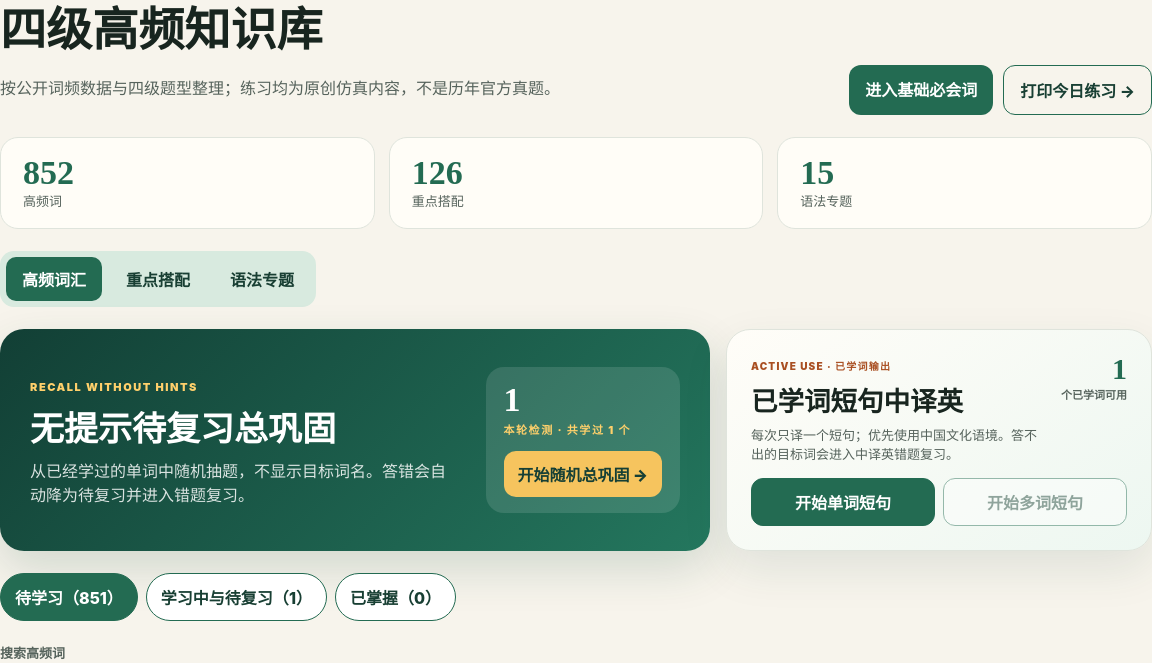
Test: KnowledgePage › finishes a one-word aggregate round with a visible summary instead of repeating it
Click the button with aria-label "开始待复习词总巩固". click: (583, 474)
box: top-left (504, 451), bottom-right (662, 497)
(page scrolled)
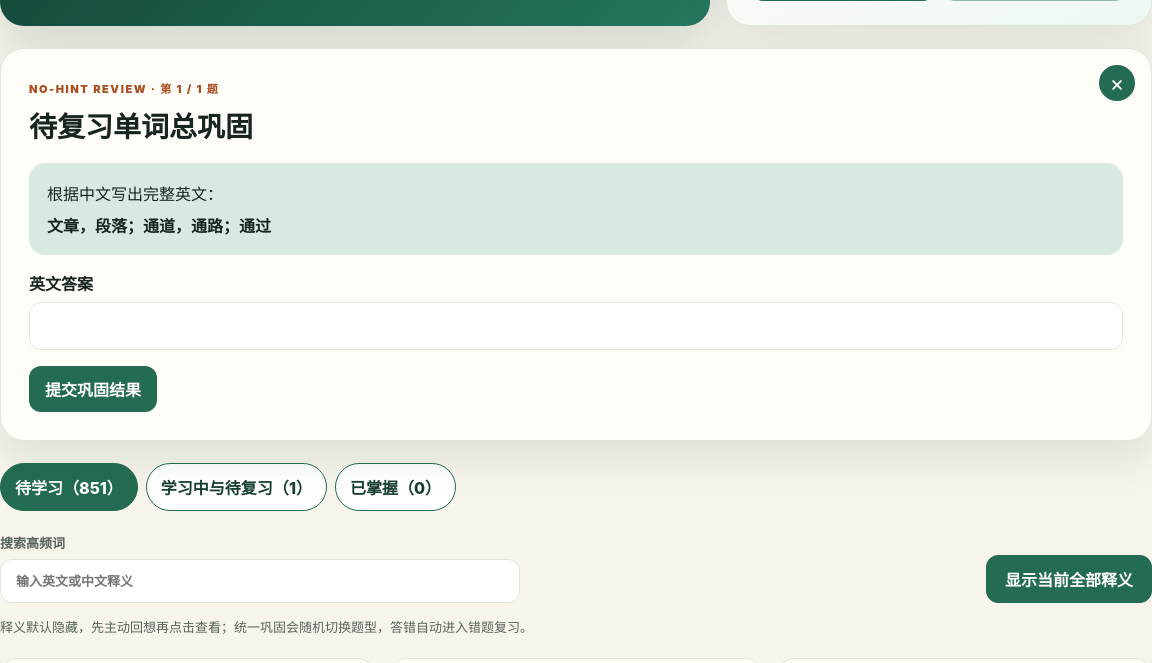
Result: the text "NO-HINT REVIEW · 第 1 / 1 题" is shown at top-left (29, 82), bottom-right (219, 96)
Type "passage" into the field labelled "英文答案". click: (576, 326)
box: top-left (29, 302), bottom-right (1123, 350)
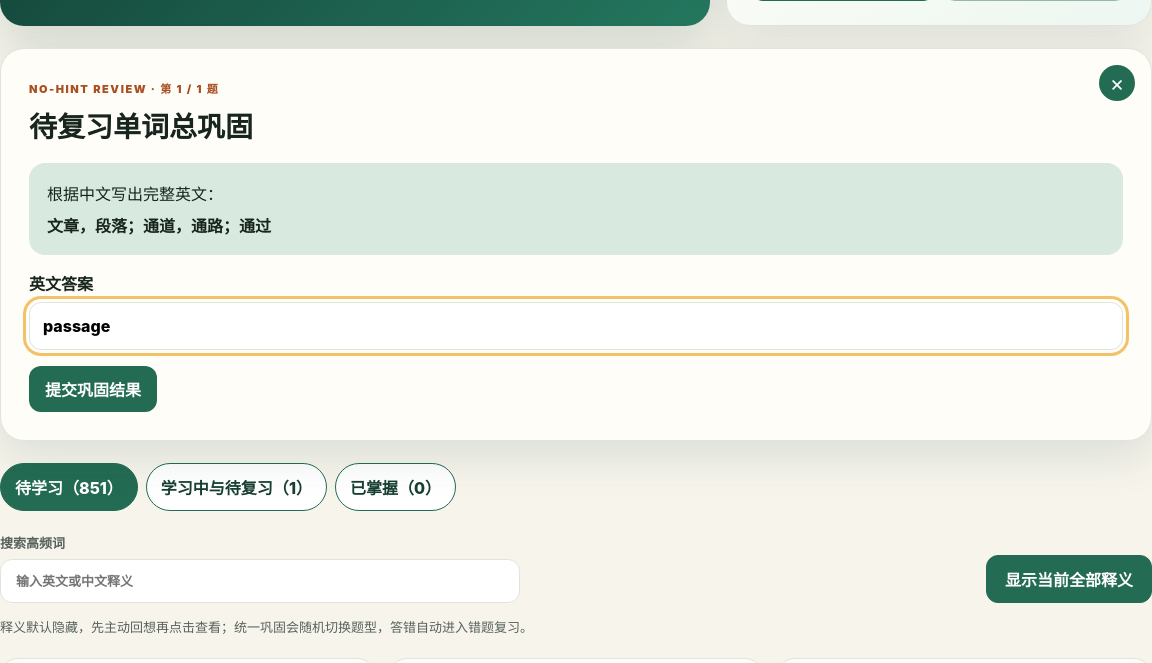
Click the button "提交巩固结果". click: (93, 389)
box: top-left (29, 366), bottom-right (157, 412)
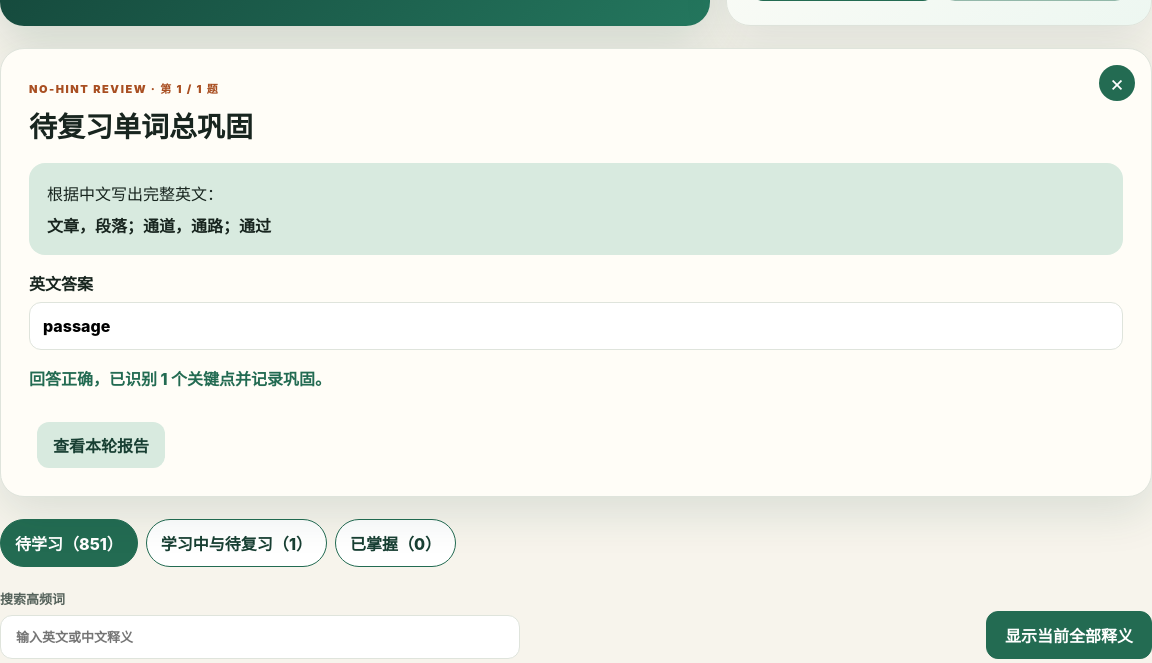
Click the button "查看本轮报告". click: (101, 445)
box: top-left (37, 422), bottom-right (165, 468)
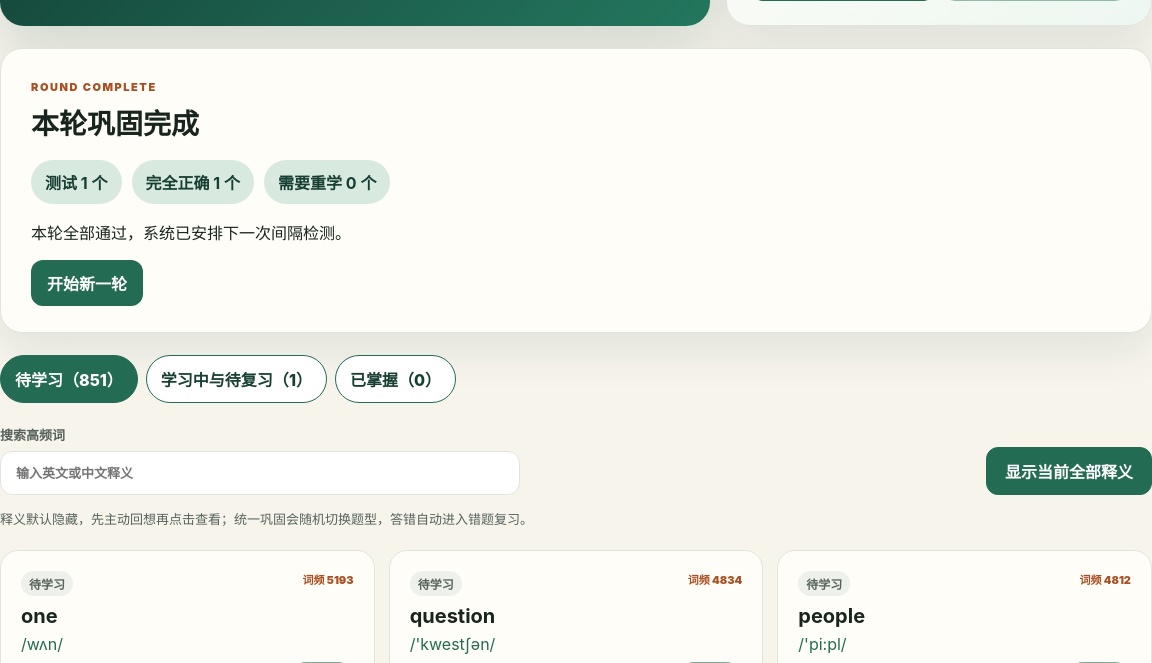
Result: the heading "本轮巩固完成" is shown at top-left (31, 107), bottom-right (199, 141)
Result: the text "测试 1 个" is shown at top-left (31, 160), bottom-right (122, 204)
Result: the text "完全正确 1 个" is shown at top-left (132, 160), bottom-right (254, 204)
